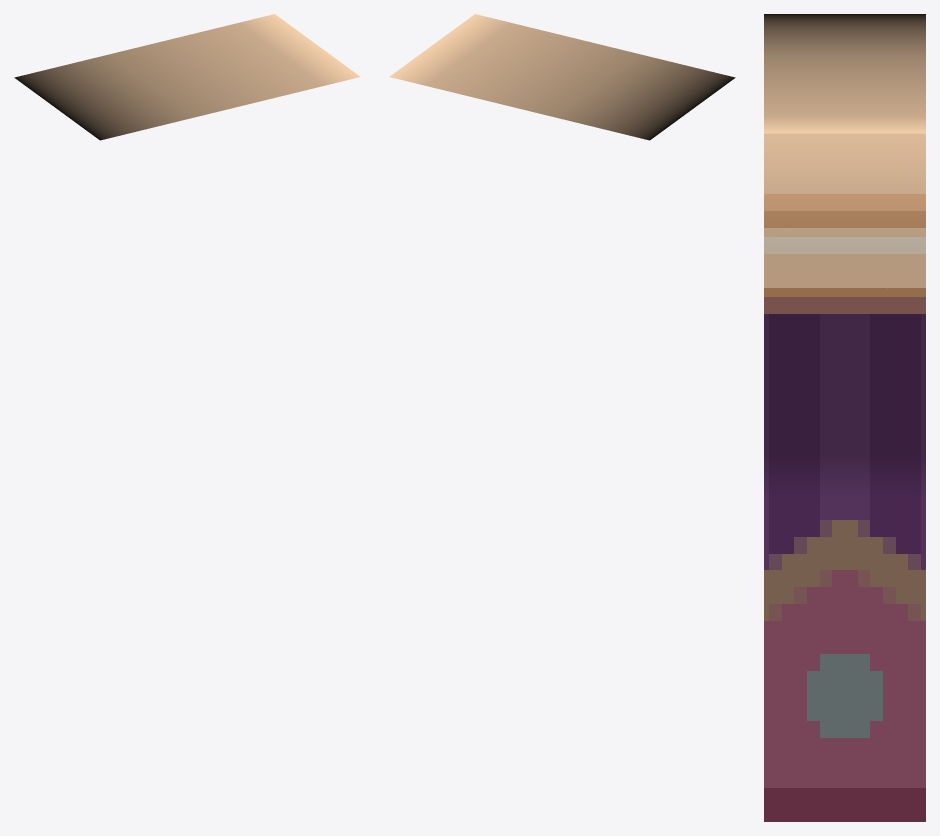
3 renders of one model, left to right at view 1: azimuth 30°, elevation 25°; view 2: azimuth 150°, elevation 25°; view 3: azimuth 270°, elevation 25°, orthographic. The views are drawn at different scales.
Size of the model in its own units: 1.75 by 4.75 by 1.
3 materials, 3 textured.
